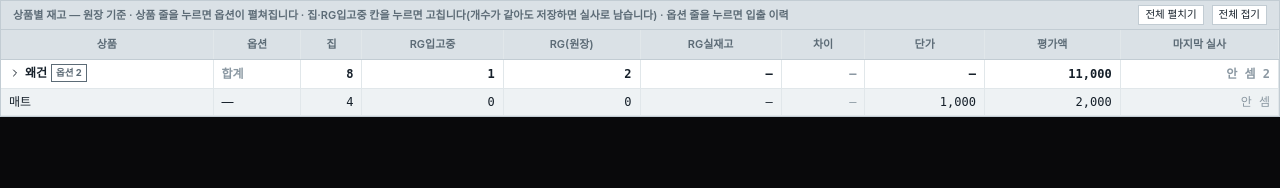
Test: StockTable — 상품 묶음 › 옵션 여러 개인 상품은 합계 한 줄로 접혀 있고, 누르면 옵션 행이 펼쳐진다
Expected: the text "옵션 2" is shown, [51,64,87,82]
Expected: the text "8" is shown, [301,59,362,88]
Click the text "왜건": [640, 74] box [1,59,1278,88]
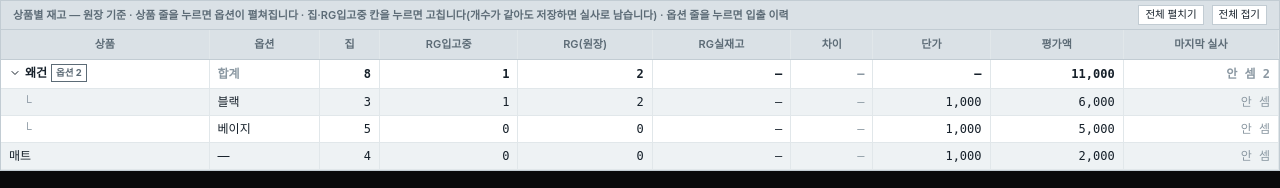
Expected: the text "베이지" is shown, [209,115,320,142]
Click the text "왜건": [640, 74] box [1,59,1278,88]
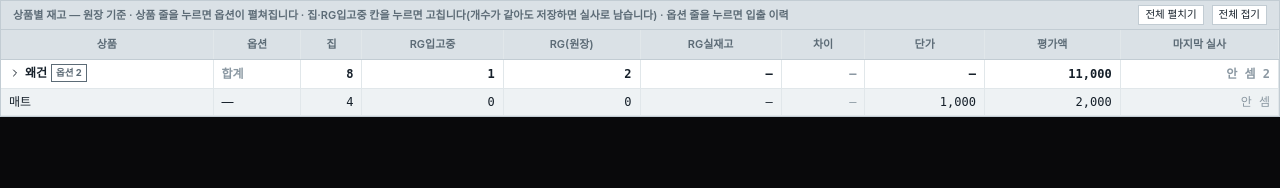
Expected: the text "베이지" is gone
